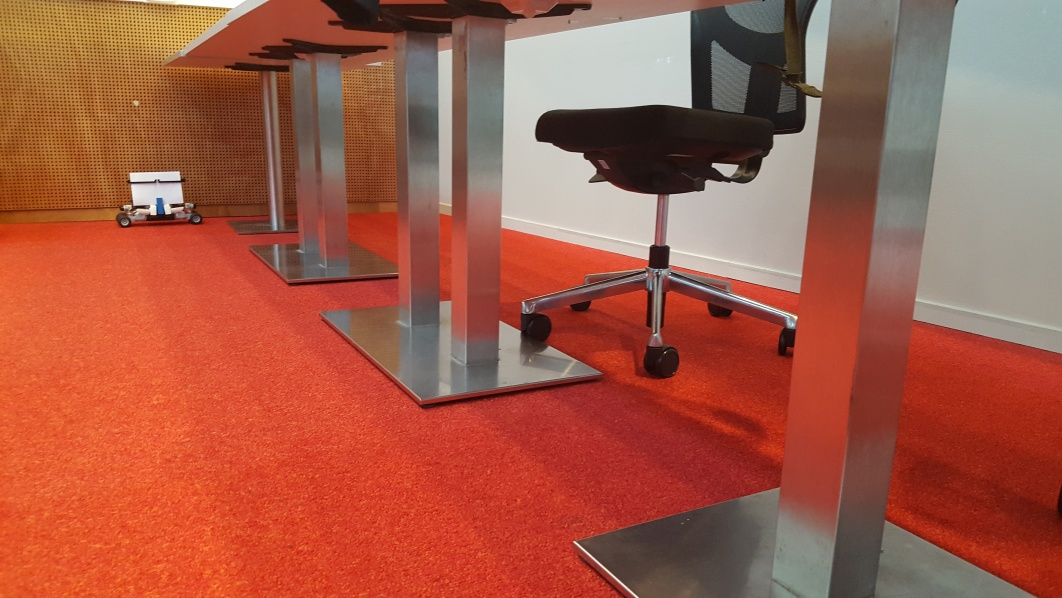car: (116, 172, 205, 229)
